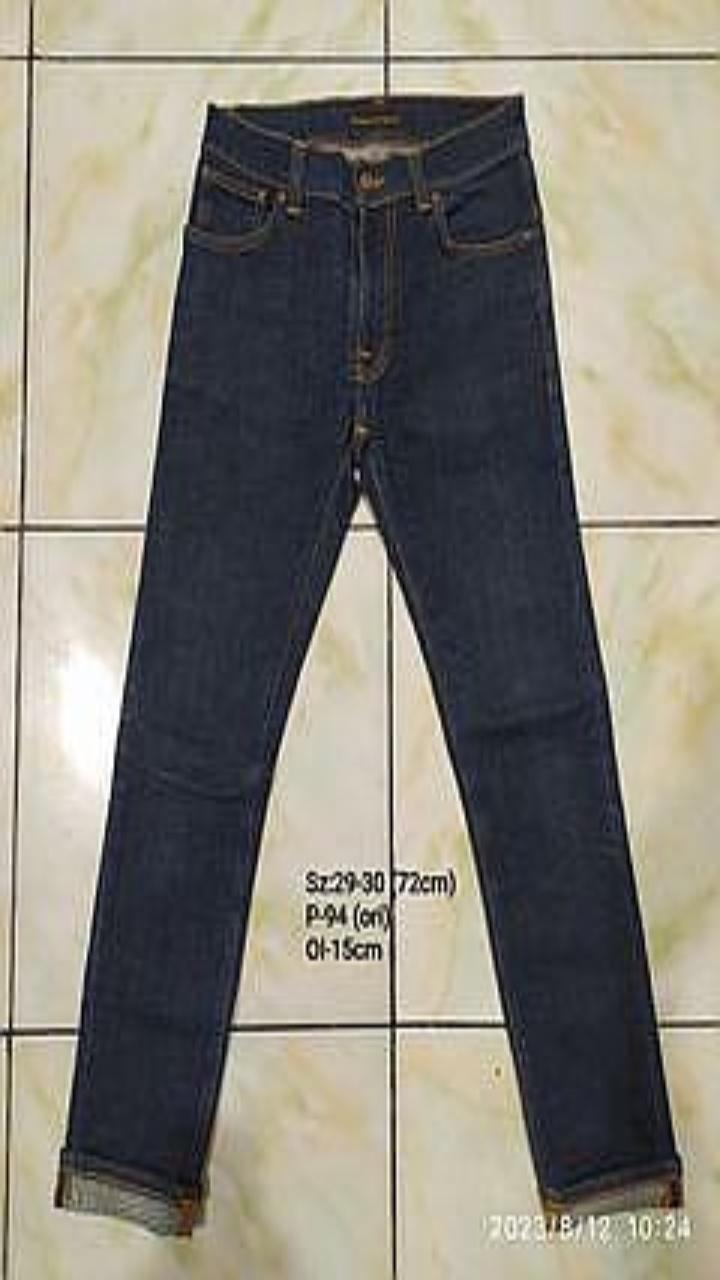Jeans: (54, 94, 682, 1234)
